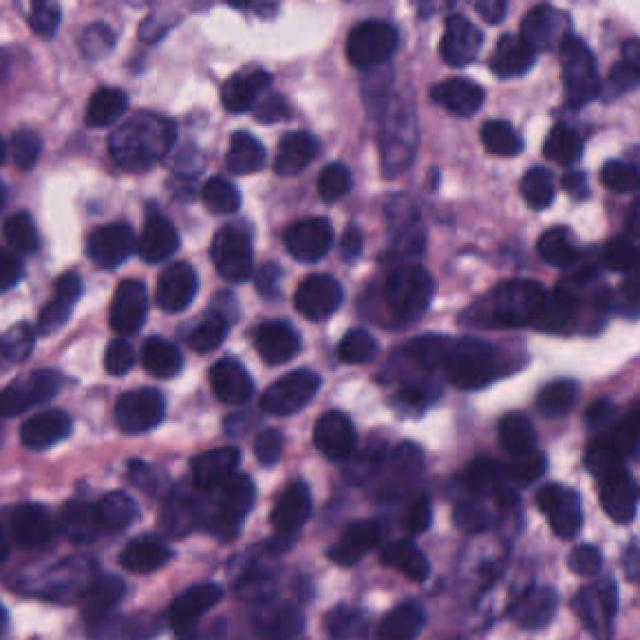lymphocyte: (552, 26, 605, 102), (203, 211, 256, 284), (340, 7, 400, 70), (264, 473, 314, 544), (132, 193, 178, 262), (540, 102, 592, 163), (264, 119, 321, 174), (277, 210, 335, 263), (81, 211, 132, 271), (287, 265, 340, 321), (164, 579, 212, 640), (377, 262, 430, 317), (106, 380, 164, 430), (245, 310, 298, 364), (525, 373, 580, 423), (443, 332, 490, 390), (425, 69, 481, 115), (481, 282, 543, 323), (305, 154, 353, 206), (256, 367, 314, 410), (192, 163, 238, 217), (309, 404, 353, 460), (199, 358, 252, 404), (324, 321, 379, 365), (55, 492, 99, 547), (16, 404, 72, 447), (527, 219, 577, 267), (106, 275, 148, 332), (97, 488, 141, 540), (138, 326, 182, 377), (377, 542, 430, 584), (217, 126, 264, 173), (152, 262, 192, 312), (76, 579, 123, 621), (190, 442, 243, 479), (81, 80, 125, 124), (517, 156, 554, 208), (120, 532, 164, 575), (495, 412, 540, 454), (531, 289, 575, 330), (99, 328, 139, 373), (513, 590, 557, 629), (474, 117, 518, 154), (504, 451, 548, 484), (226, 482, 261, 523), (460, 456, 504, 488), (550, 492, 580, 538), (19, 4, 60, 35), (455, 503, 495, 534), (402, 501, 434, 538), (324, 534, 356, 568), (344, 516, 379, 544), (409, 328, 435, 365), (568, 263, 603, 286), (335, 228, 358, 262), (561, 165, 587, 193)
macrophage: (150, 473, 220, 538), (368, 89, 421, 173), (99, 115, 175, 171), (159, 111, 220, 173), (0, 560, 97, 597), (481, 560, 525, 634), (379, 193, 428, 254), (224, 549, 277, 605), (451, 534, 490, 610), (515, 0, 568, 43), (483, 26, 527, 72), (437, 17, 478, 63), (182, 310, 220, 351)
unlabeled: (577, 410, 640, 469), (571, 579, 621, 640), (592, 456, 635, 523), (39, 262, 78, 328), (220, 59, 263, 108), (72, 22, 116, 59), (335, 451, 379, 484), (562, 542, 603, 575), (250, 87, 289, 121), (252, 423, 279, 466), (134, 13, 169, 41), (220, 403, 256, 430), (393, 382, 425, 410), (393, 440, 420, 473), (534, 477, 557, 510), (577, 391, 605, 417), (499, 492, 517, 510)
